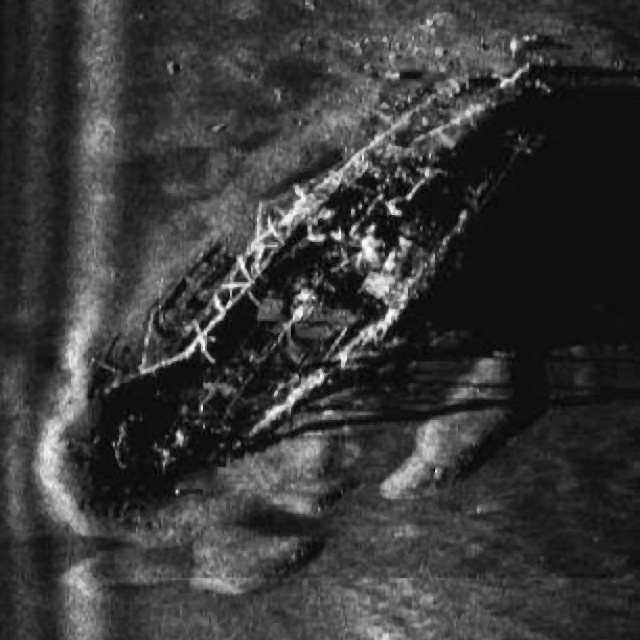Ship: (69, 41, 575, 507)
